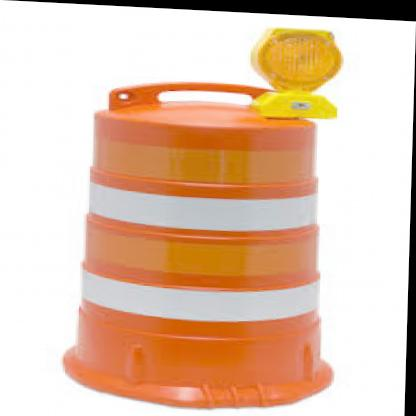obstacle: (70, 68, 348, 400)
